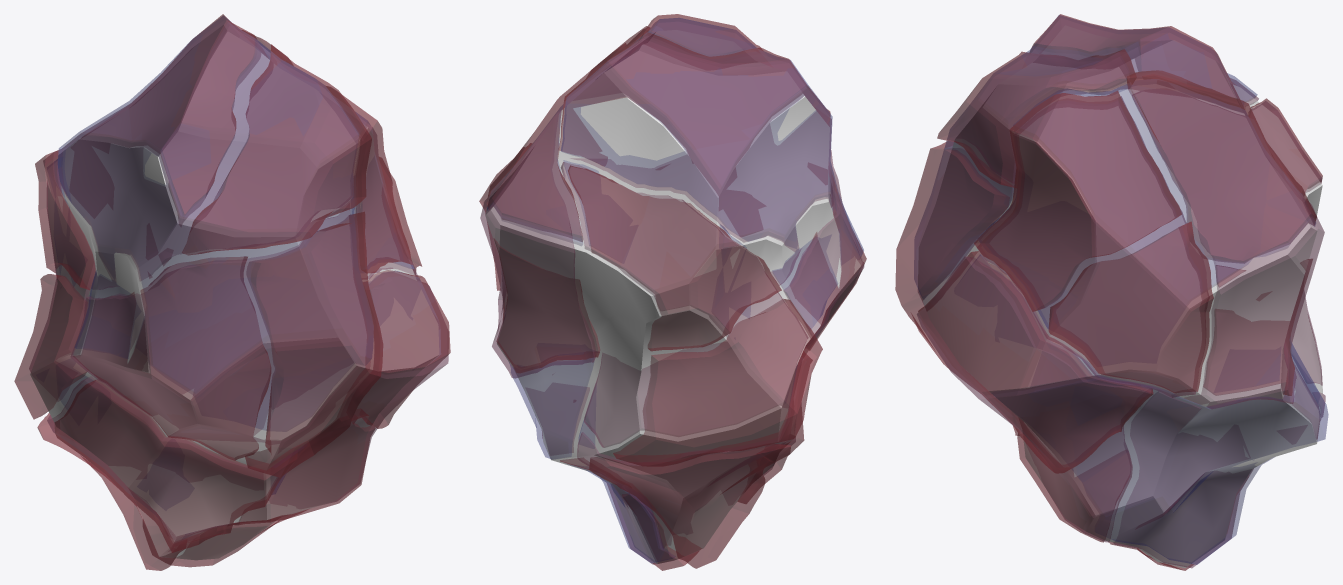
Rendered from hvs_amber_large01.fbx.
The picture shows the model from 3 angles, left to right: view 1: azimuth 30°, elevation 25°; view 2: azimuth 150°, elevation 25°; view 3: azimuth 270°, elevation 25°; orthographic projection. The views are drawn at different scales.
Visible parts, largest first — view 1: hvs_amber_large01_0.001, hvs_amber_large01_3.001, hvs_amber_large01_2.017, hvs_amber_large01_1.002; view 2: hvs_amber_large01_0.001, hvs_amber_large01_2.017, hvs_amber_large01_3.001, hvs_amber_large01_1.002; view 3: hvs_amber_large01_0.001, hvs_amber_large01_2.017, hvs_amber_large01_3.001, hvs_amber_large01_1.002.
Boxes of the visible parts, x1,y1,x2,y2 form: hvs_amber_large01_0.001: (30, 25, 438, 560); hvs_amber_large01_3.001: (14, 14, 450, 570); hvs_amber_large01_2.017: (29, 20, 448, 551); hvs_amber_large01_1.002: (47, 16, 440, 509); hvs_amber_large01_0.001: (485, 30, 863, 564); hvs_amber_large01_2.017: (480, 22, 864, 564); hvs_amber_large01_3.001: (479, 14, 866, 570); hvs_amber_large01_1.002: (487, 18, 863, 562); hvs_amber_large01_0.001: (918, 25, 1323, 567); hvs_amber_large01_2.017: (917, 18, 1325, 568); hvs_amber_large01_3.001: (895, 14, 1322, 570); hvs_amber_large01_1.002: (914, 15, 1328, 564).
Size of the model in its own units: 13.44 by 19.48 by 13.96.
